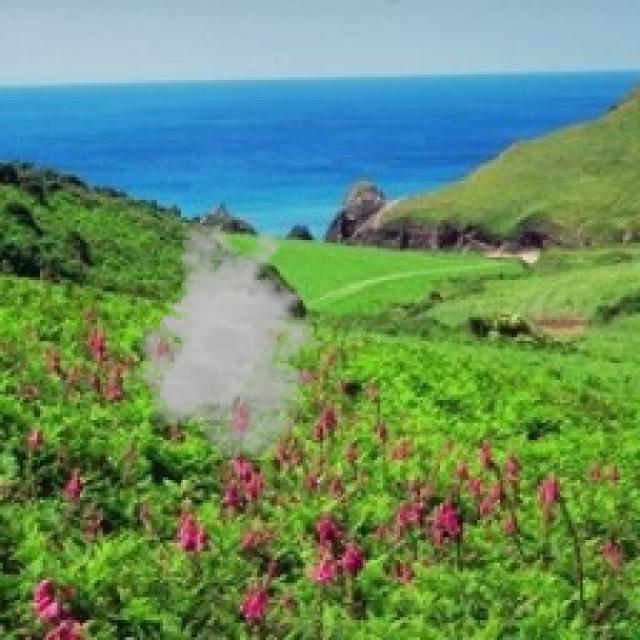Smoke: (132, 220, 338, 460)
